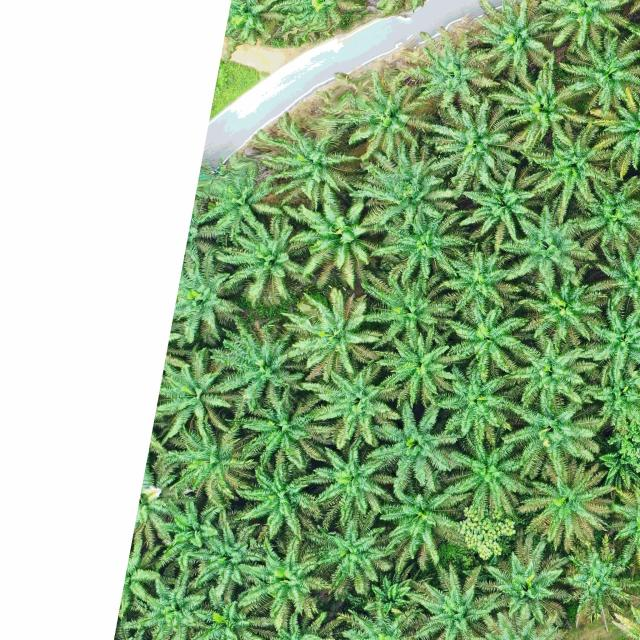Tree: (282, 190, 396, 294), (210, 310, 312, 420), (514, 453, 620, 557), (288, 432, 396, 534), (348, 142, 459, 239), (253, 112, 362, 210), (282, 282, 386, 384), (420, 91, 524, 191), (350, 322, 460, 416), (494, 198, 606, 290), (503, 385, 607, 483), (366, 195, 478, 286), (234, 534, 336, 633), (512, 118, 620, 211), (367, 396, 463, 496), (154, 418, 259, 508), (211, 211, 303, 309), (440, 428, 535, 522), (240, 385, 333, 481), (434, 356, 532, 445), (501, 329, 601, 416), (307, 364, 406, 450), (374, 482, 475, 566), (435, 297, 536, 381), (235, 449, 326, 542), (360, 264, 458, 349), (557, 530, 640, 630), (403, 560, 504, 640), (478, 543, 572, 628), (406, 31, 502, 112), (492, 66, 585, 149), (460, 158, 541, 251), (190, 508, 270, 601), (311, 516, 397, 601), (514, 266, 603, 346), (564, 172, 640, 264), (468, 0, 554, 80), (126, 568, 221, 640), (345, 77, 425, 162), (559, 27, 640, 107), (441, 247, 524, 321), (534, 0, 639, 51), (583, 296, 640, 387), (588, 84, 640, 177), (584, 245, 640, 323), (359, 574, 415, 620)
